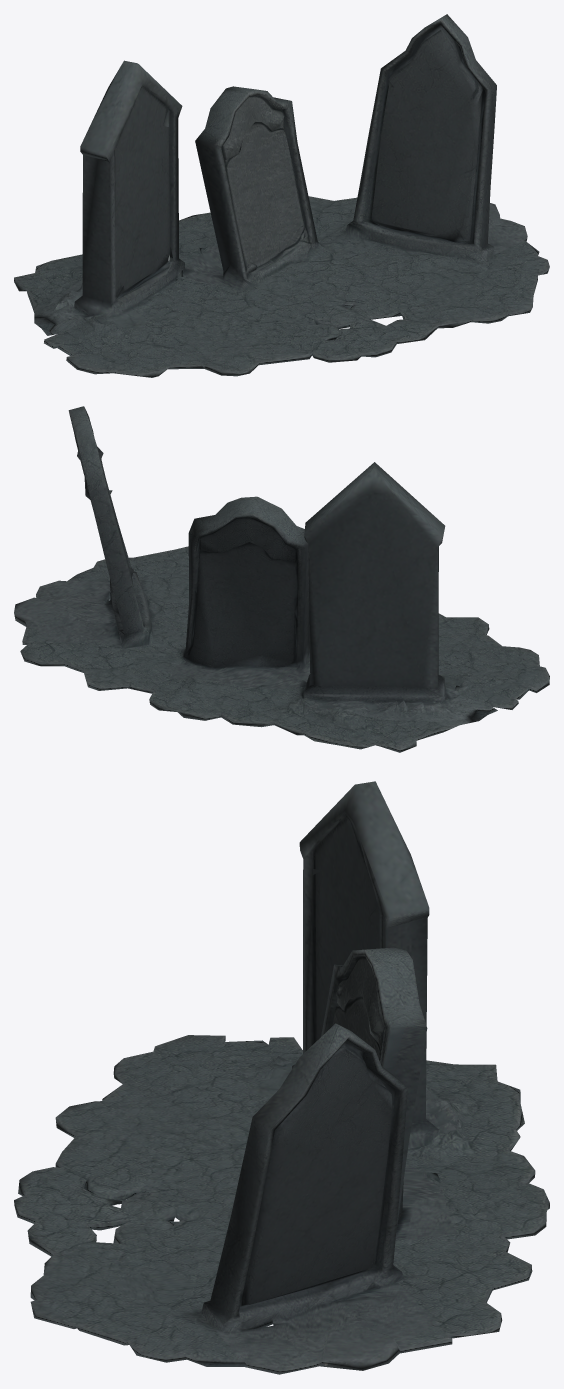
The model's file is grave_cluster.glb.
3 renders of one model, top to bottom at view 1: azimuth 30°, elevation 25°; view 2: azimuth 150°, elevation 25°; view 3: azimuth 270°, elevation 25°, orthographic. The views are drawn at different scales.
Bounding box in the file's own units: 1.89 × 0.9019 × 1.28.
Materials: 1 (1 with a texture image).
